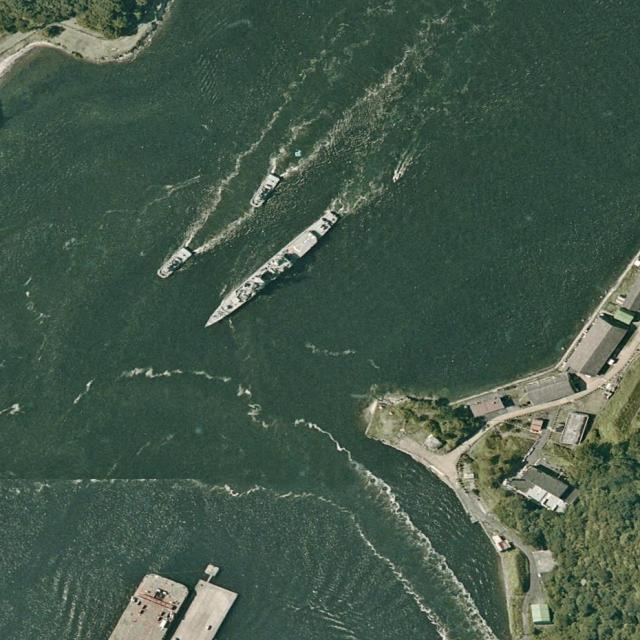Destroyer: (200, 209, 341, 333)
Hovercraft: (155, 245, 193, 282), (250, 173, 280, 210)
